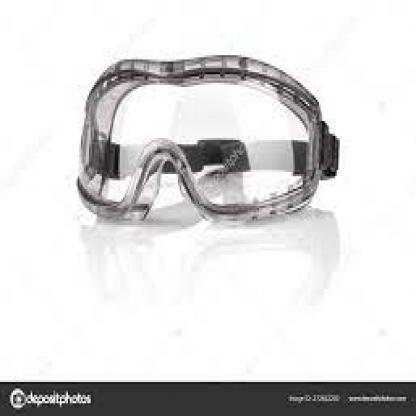goggles: (77, 49, 339, 238)
